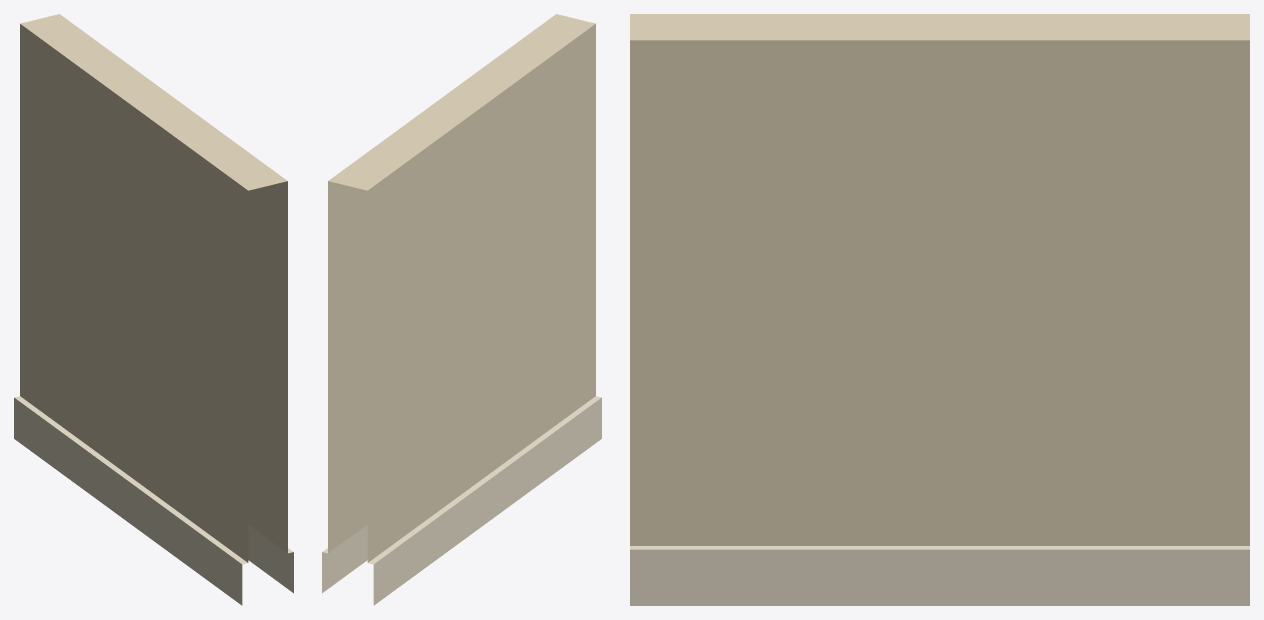
File: Mesh_Wall_Middle.fbx
The picture shows the model from 3 angles, left to right: view 1: azimuth 30°, elevation 25°; view 2: azimuth 150°, elevation 25°; view 3: azimuth 270°, elevation 25°; orthographic projection. The views are drawn at different scales.
Parts seen in each view (by area): view 1: Wall_Middle; view 2: Wall_Middle; view 3: Wall_Middle.
Boxes of the visible parts, <box> form: Wall_Middle: <box>14,14,293,605</box>; Wall_Middle: <box>322,14,601,605</box>; Wall_Middle: <box>630,14,1249,605</box>.
Size of the model in its own units: 26 by 200 by 200.
